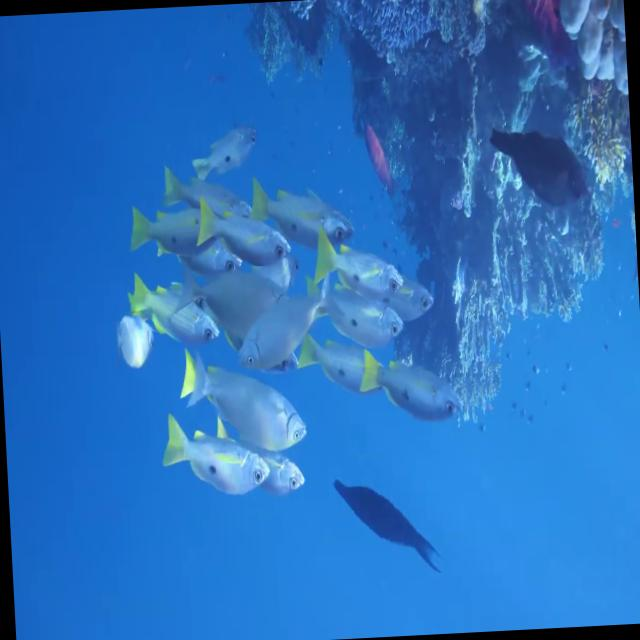fish: (174, 356, 308, 463), (124, 188, 242, 306), (330, 470, 442, 588), (154, 404, 272, 508), (486, 120, 595, 230), (236, 272, 336, 386), (250, 172, 356, 260), (120, 278, 217, 373), (361, 353, 464, 438), (307, 228, 408, 306), (513, 0, 585, 106), (192, 202, 297, 274), (294, 332, 386, 406), (312, 296, 410, 356), (188, 120, 266, 192), (252, 454, 308, 516), (392, 276, 438, 328)
